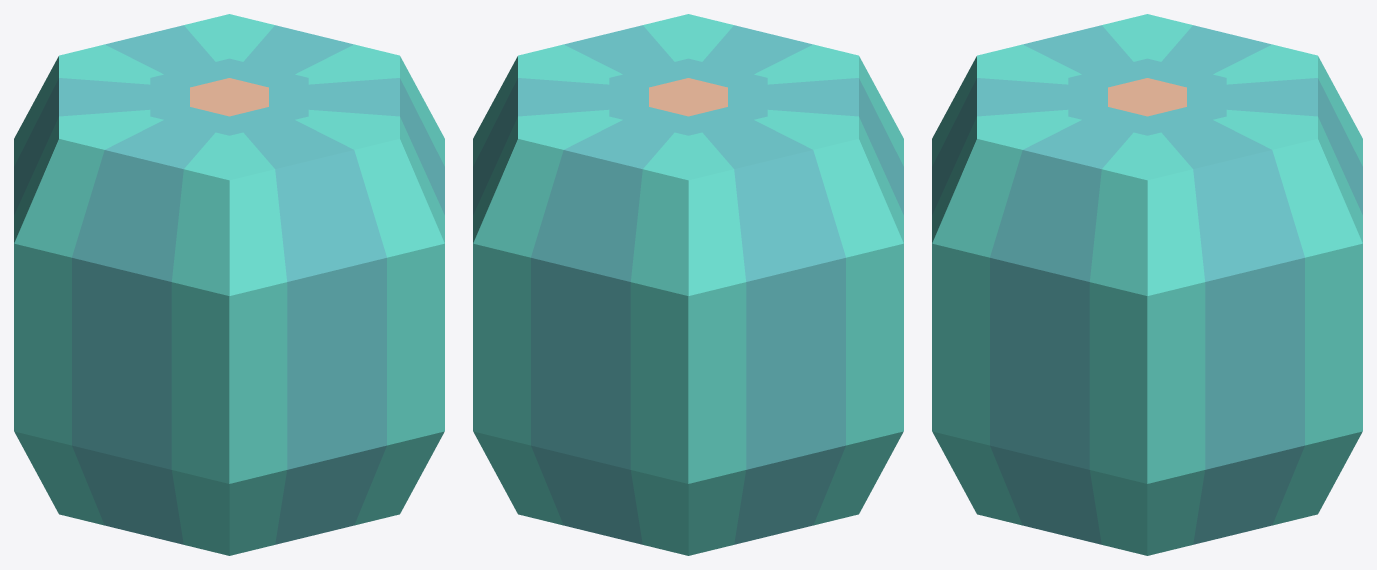
File: kn_crop_melon.fbx
3 renders of one model, left to right at view 1: azimuth 30°, elevation 25°; view 2: azimuth 150°, elevation 25°; view 3: azimuth 270°, elevation 25°, orthographic.
Parts seen in each view (by area): view 1: kn_crop_melon; view 2: kn_crop_melon; view 3: kn_crop_melon.
Boxes of the visible parts, x1,y1,x2,y2 form: kn_crop_melon: (14, 14, 444, 555); kn_crop_melon: (473, 14, 903, 555); kn_crop_melon: (932, 14, 1362, 555).
Bounding box in the file's own units: 0.54 × 0.45 × 0.4677.
1 material, 1 textured.
